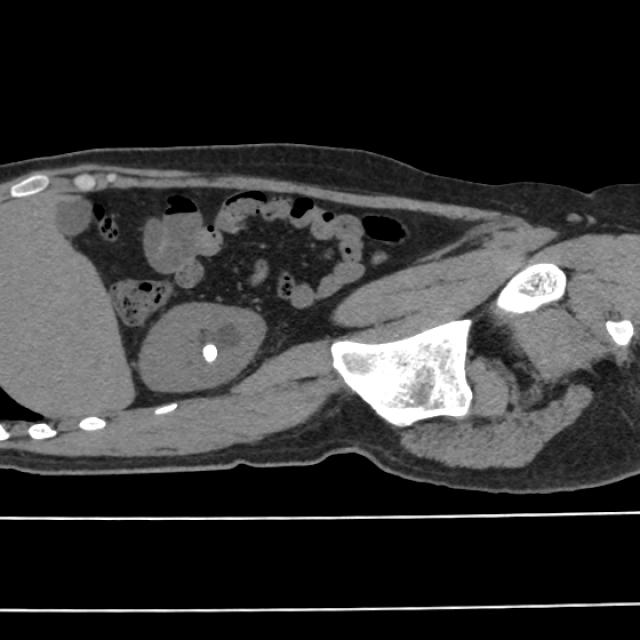kidney: (136, 299, 270, 397)
stone: (202, 342, 219, 361)
